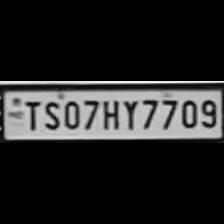0: (61, 97, 81, 130), (177, 96, 197, 128)
7: (136, 96, 158, 132), (156, 96, 176, 130), (80, 96, 98, 132)
9: (198, 96, 218, 128)
H: (99, 97, 121, 131)
S: (40, 97, 61, 131)
T: (22, 97, 38, 131)
Y: (120, 97, 138, 130)
